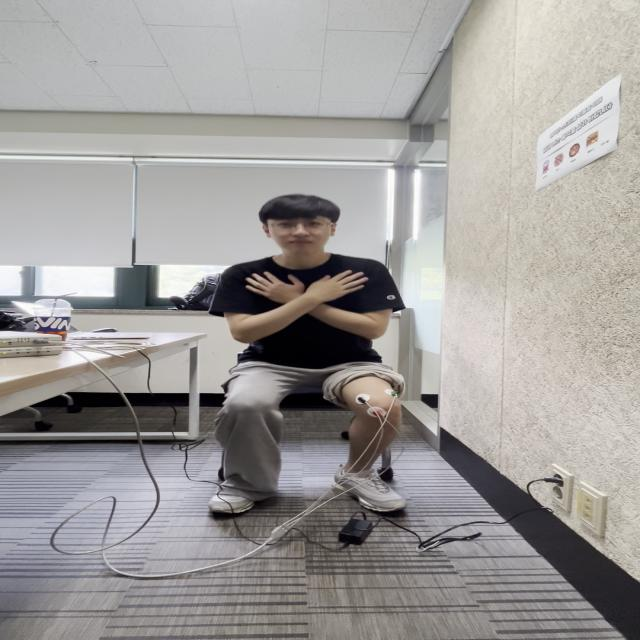squat: (213, 266, 402, 415), (227, 349, 404, 417), (334, 383, 404, 514), (214, 391, 282, 506)
